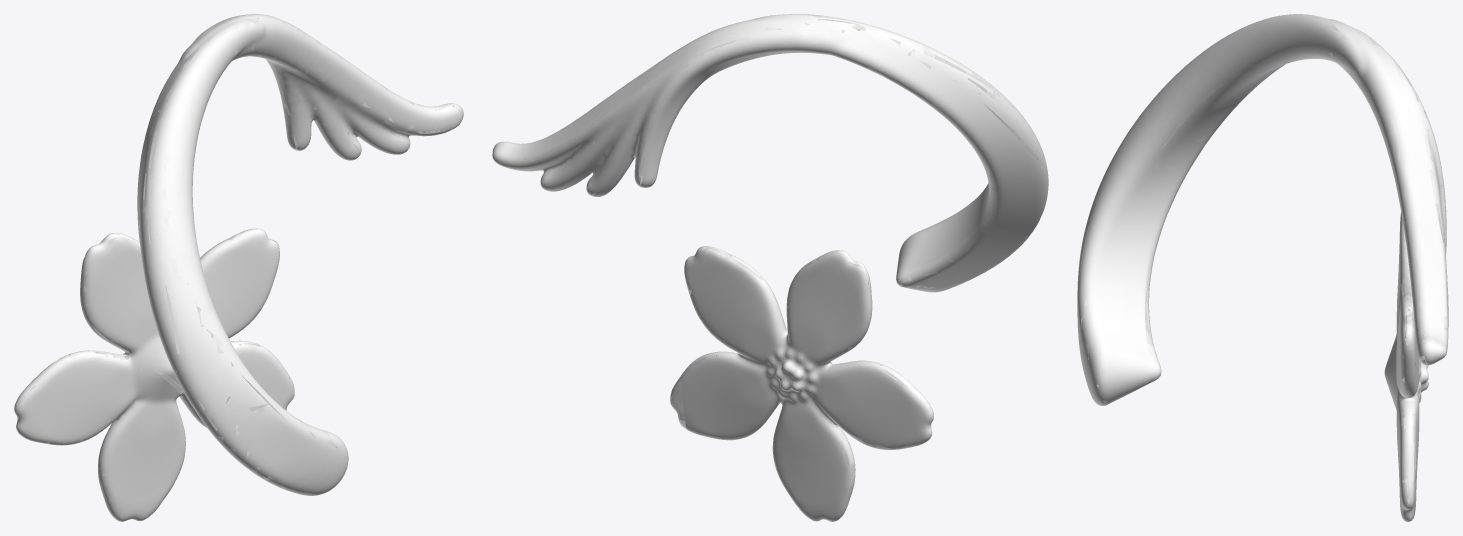
The model's file is right-transformed.glb.
3 renders of one model, left to right at view 1: azimuth 30°, elevation 25°; view 2: azimuth 150°, elevation 25°; view 3: azimuth 270°, elevation 25°, orthographic. The views are drawn at different scales.
Visible parts, largest first — view 1: Right Side; view 2: Right Side; view 3: Right Side.
Boxes of the visible parts, x1,y1,x2,y2 form: Right Side: (14, 14, 463, 521); Right Side: (492, 14, 1048, 521); Right Side: (1077, 14, 1448, 521).
Bounding box in the file's own units: 104 × 109 × 71.02.
1 material, 1 textured.
